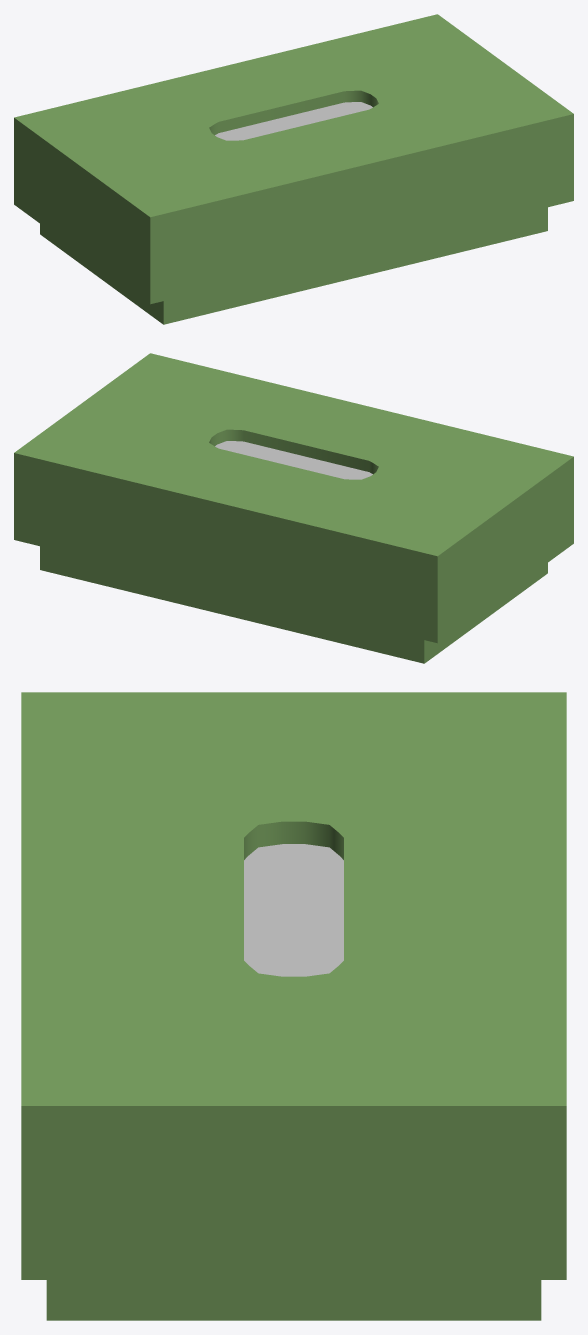
Rendered from WetWipes_01.fbx.
3 views of the same model, one above another, from view 1: azimuth 30°, elevation 25°; view 2: azimuth 150°, elevation 25°; view 3: azimuth 270°, elevation 25° (orthographic). The views are drawn at different scales.
Visible parts, largest first — view 1: WetWipes_01; view 2: WetWipes_01; view 3: WetWipes_01.
Boxes of the visible parts, x1,y1,x2,y2 form: WetWipes_01: (14,14,573,324); WetWipes_01: (14,353,573,663); WetWipes_01: (21,692,566,1320).
Bounding box in the file's own units: 0.2315 × 0.061 × 0.129.
